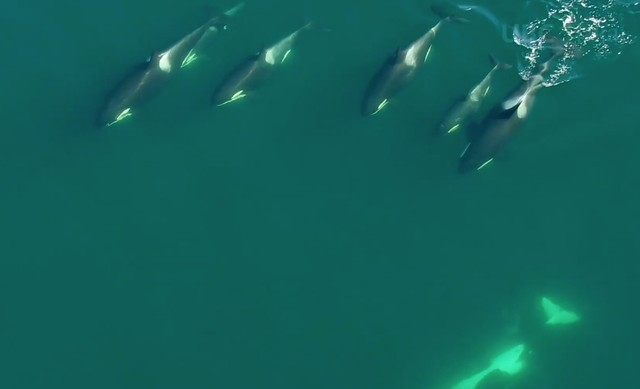whale: (79, 1, 247, 141), (451, 23, 581, 185), (355, 1, 472, 122), (208, 17, 322, 123), (429, 50, 517, 150)
